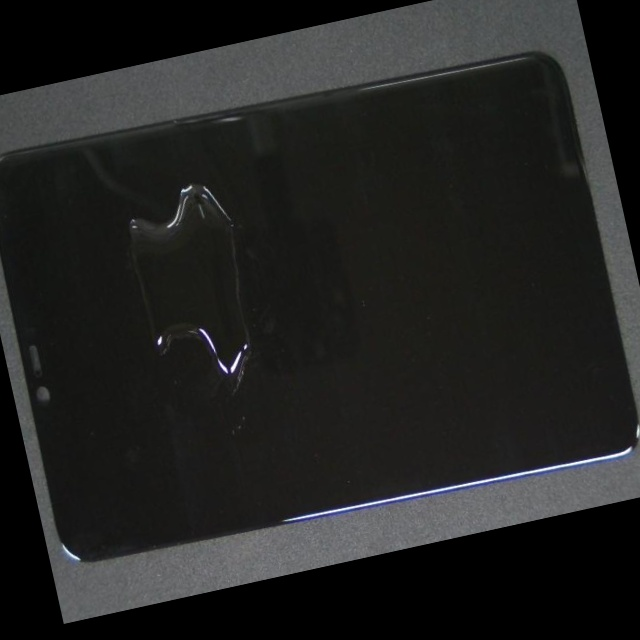oil: (113, 123, 351, 291)
